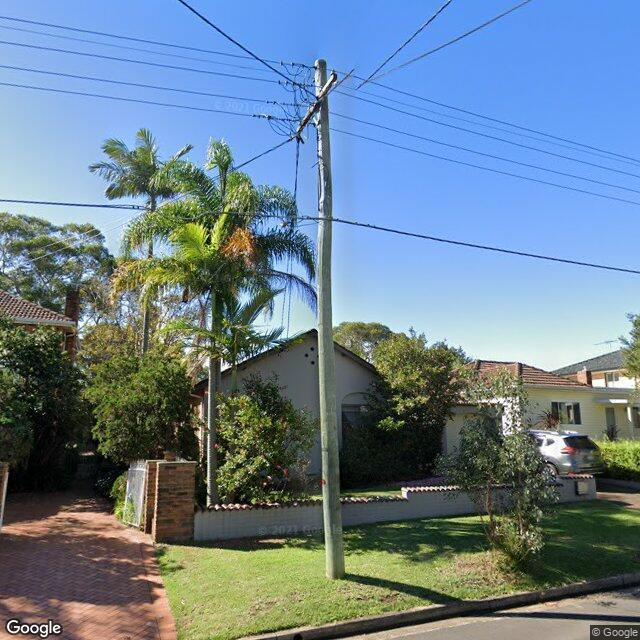crossarm: (293, 72, 339, 138)
timber-pole: (313, 61, 348, 576)
